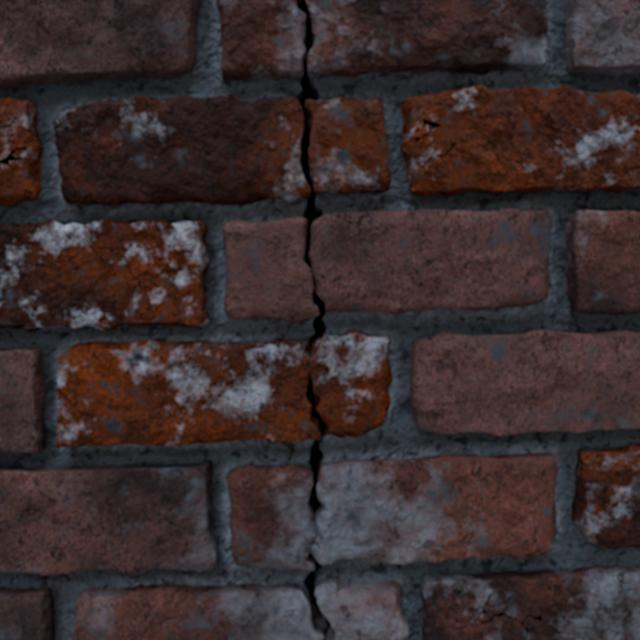broken_brick: (57, 329, 392, 447), (226, 453, 557, 570), (53, 94, 309, 205), (310, 208, 552, 314), (306, 0, 548, 76), (72, 584, 321, 639), (223, 217, 319, 322), (305, 97, 390, 194), (217, 0, 305, 80), (315, 578, 408, 639)
crack: (400, 85, 639, 196), (0, 461, 218, 575), (409, 329, 639, 436), (0, 219, 208, 331), (0, 0, 199, 87), (421, 566, 639, 639), (294, 0, 326, 365), (565, 210, 639, 314), (571, 446, 639, 549), (564, 0, 639, 76), (0, 348, 45, 452), (0, 98, 43, 206), (305, 374, 329, 528), (302, 552, 335, 639), (0, 587, 54, 639), (447, 57, 454, 65), (310, 63, 333, 64), (385, 62, 400, 63), (426, 61, 439, 62)
